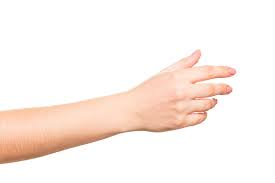hand: (113, 47, 247, 143)
